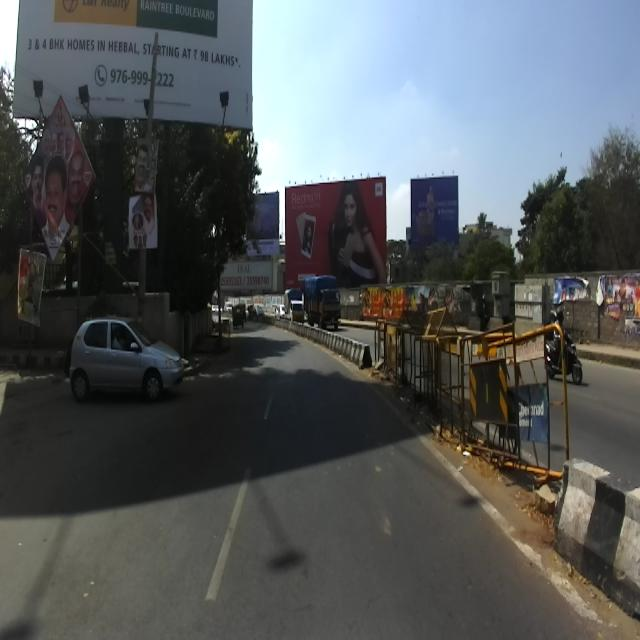barrier ahead at: (378, 310, 575, 491)
car ahead at: (69, 314, 187, 415)
